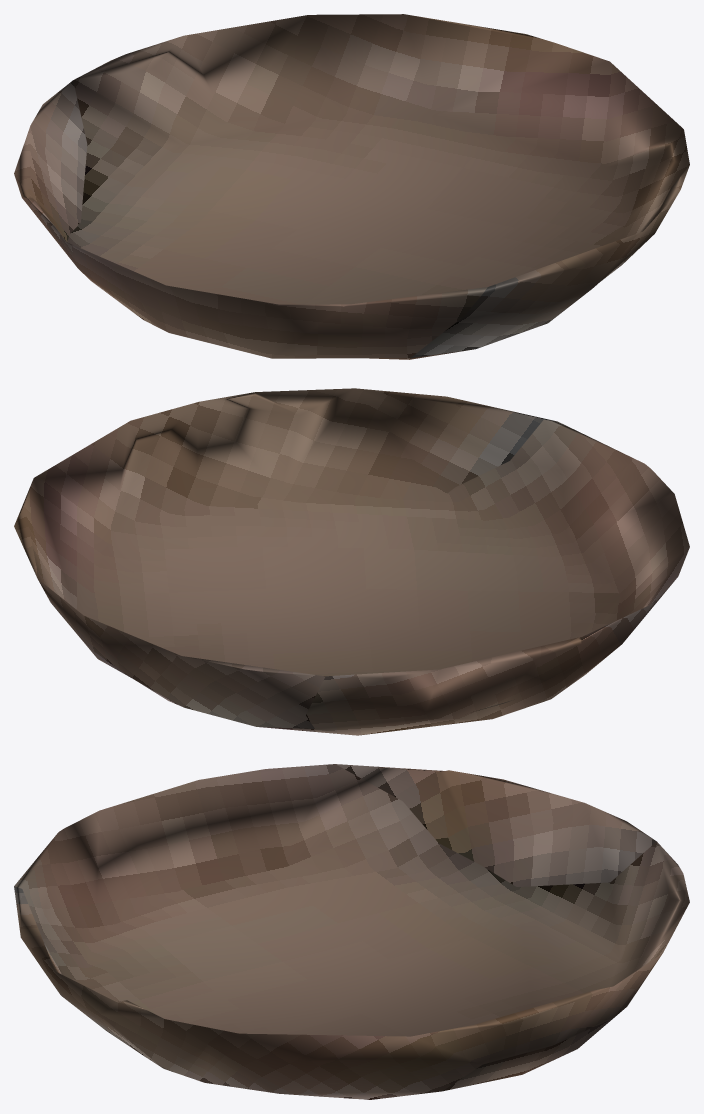
File: Ecoforms_Plant_Saucer_S17MOCHA-low.glb
3 renders of one model, top to bottom at view 1: azimuth 30°, elevation 25°; view 2: azimuth 150°, elevation 25°; view 3: azimuth 270°, elevation 25°, orthographic.
Parts seen in each view (by area): view 1: Ecoforms_Plant_Saucer_S17MOCHA; view 2: Ecoforms_Plant_Saucer_S17MOCHA; view 3: Ecoforms_Plant_Saucer_S17MOCHA.
Part boxes in pixels (bbox=[...]): Ecoforms_Plant_Saucer_S17MOCHA: bbox=[14, 14, 689, 359]; Ecoforms_Plant_Saucer_S17MOCHA: bbox=[14, 388, 689, 735]; Ecoforms_Plant_Saucer_S17MOCHA: bbox=[14, 764, 689, 1099].
Size of the model in its own units: 0.1753 by 0.0301 by 0.1762.
1 material, 1 textured.
